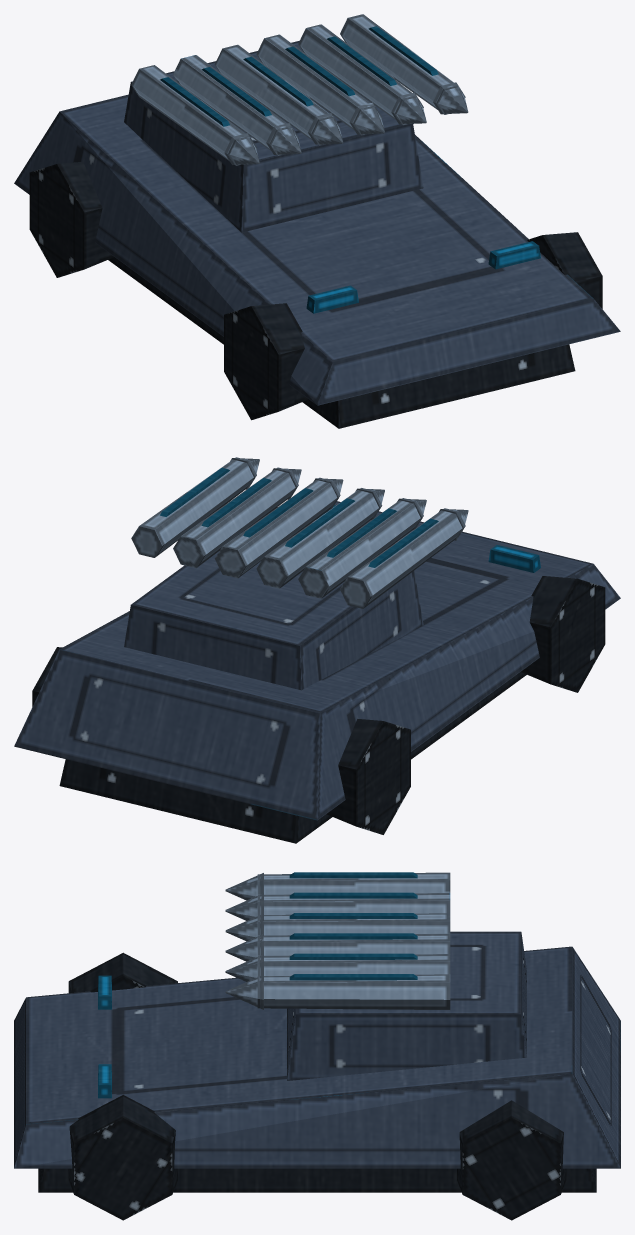
Rendered from unit-aa.fbx.
The picture shows the model from 3 angles, top to bottom: view 1: azimuth 30°, elevation 25°; view 2: azimuth 150°, elevation 25°; view 3: azimuth 270°, elevation 25°; orthographic projection.
Visible parts, largest first — view 1: unit-aa; view 2: unit-aa; view 3: unit-aa.
Part boxes in pixels (box(x1,y1,x2,y2)): unit-aa: box(14, 14, 620, 428); unit-aa: box(14, 457, 620, 843); unit-aa: box(14, 872, 620, 1220).
Bounding box in the file's own units: 323 × 210 × 520.
Materials: 1 (1 with a texture image).
